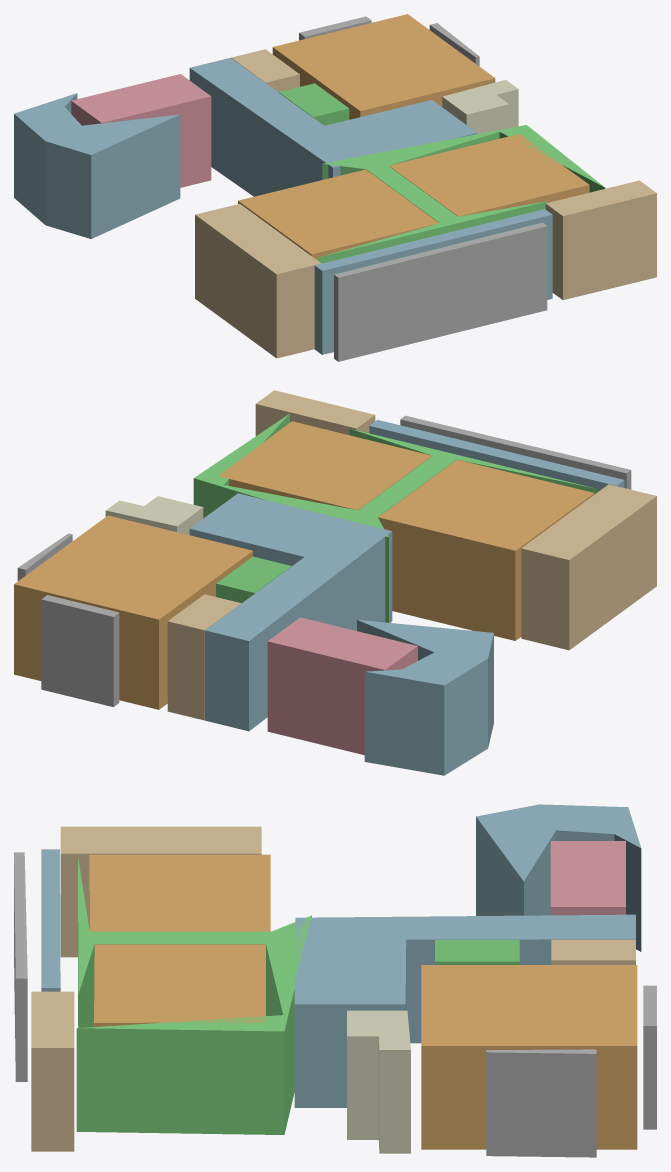
Rendered from Capture d’écran 2025-06-05 224143.obj.
The picture shows the model from 3 angles, top to bottom: view 1: azimuth 30°, elevation 25°; view 2: azimuth 150°, elevation 25°; view 3: azimuth 270°, elevation 25°; orthographic projection. The views are drawn at different scales.
Bounding box in the file's own units: 12.91 × 2.5 × 14.06.
